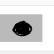correct: (10, 20, 38, 39)
